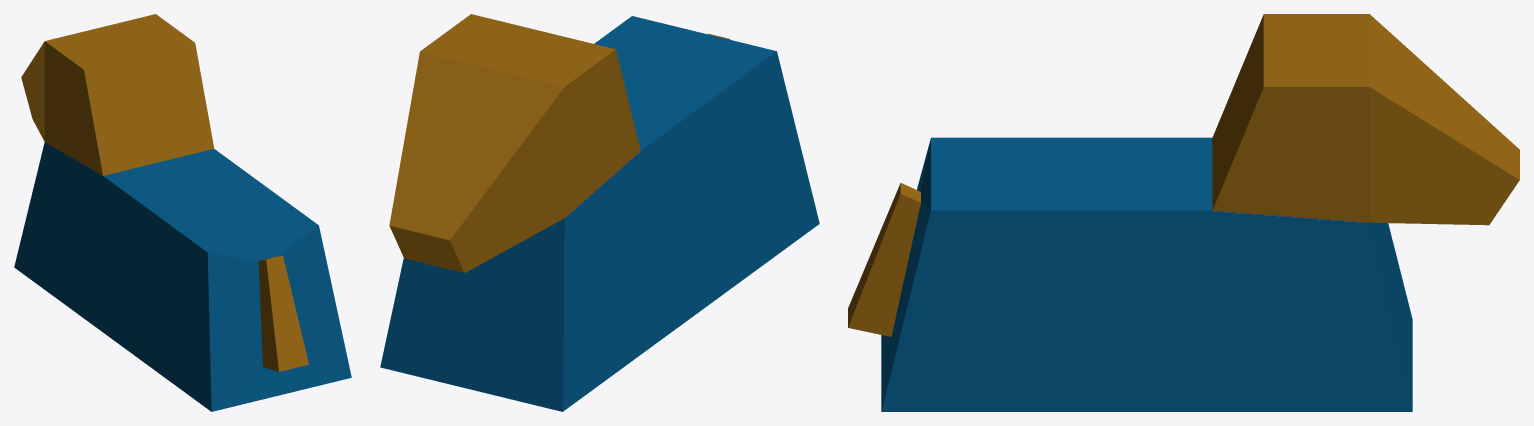
File: Horse.fbx
3 renders of one model, left to right at view 1: azimuth 30°, elevation 25°; view 2: azimuth 150°, elevation 25°; view 3: azimuth 270°, elevation 25°, orthographic. The views are drawn at different scales.
Parts seen in each view (by area): view 1: Horse; view 2: Horse; view 3: Horse.
Part boxes in pixels (x1,y1,x2,y2): Horse: (14,14,351,411); Horse: (380,14,819,411); Horse: (848,14,1519,411).
Bounding box in the file's own units: 32.61 × 52.13 × 101.
